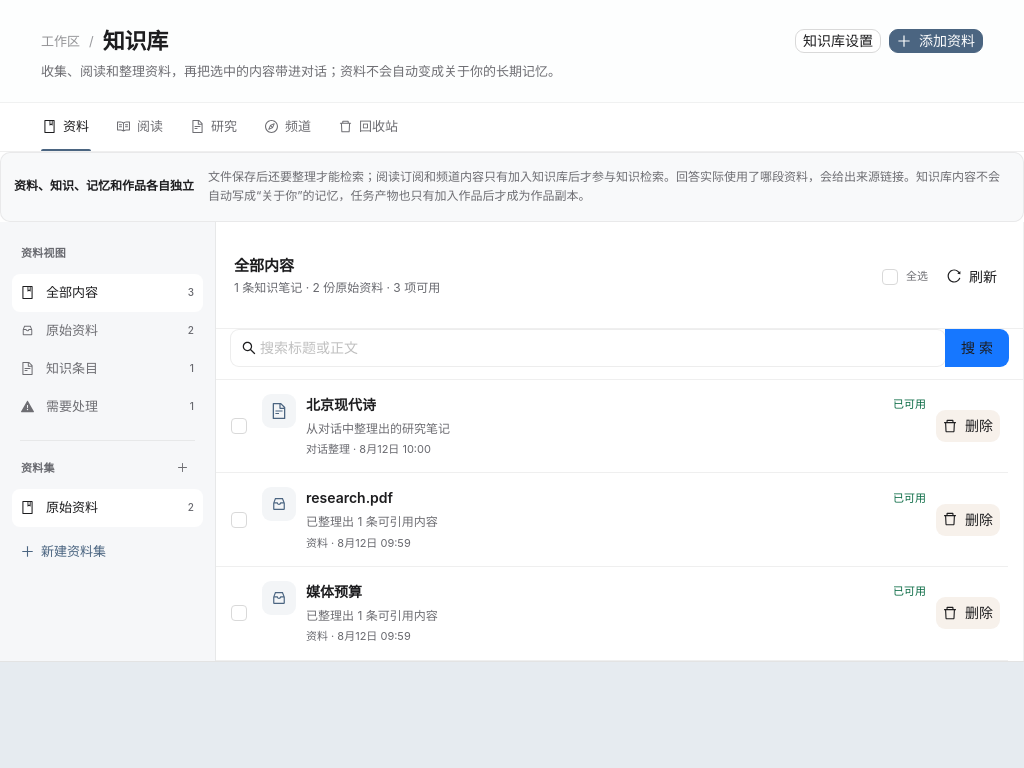
it: Knowledge workspace › opens a search excerpt by Unicode position and checks its source version
Type "Research" into the search field named "搜索知识库". click: x=589, y=348
box: [260, 334, 918, 362]
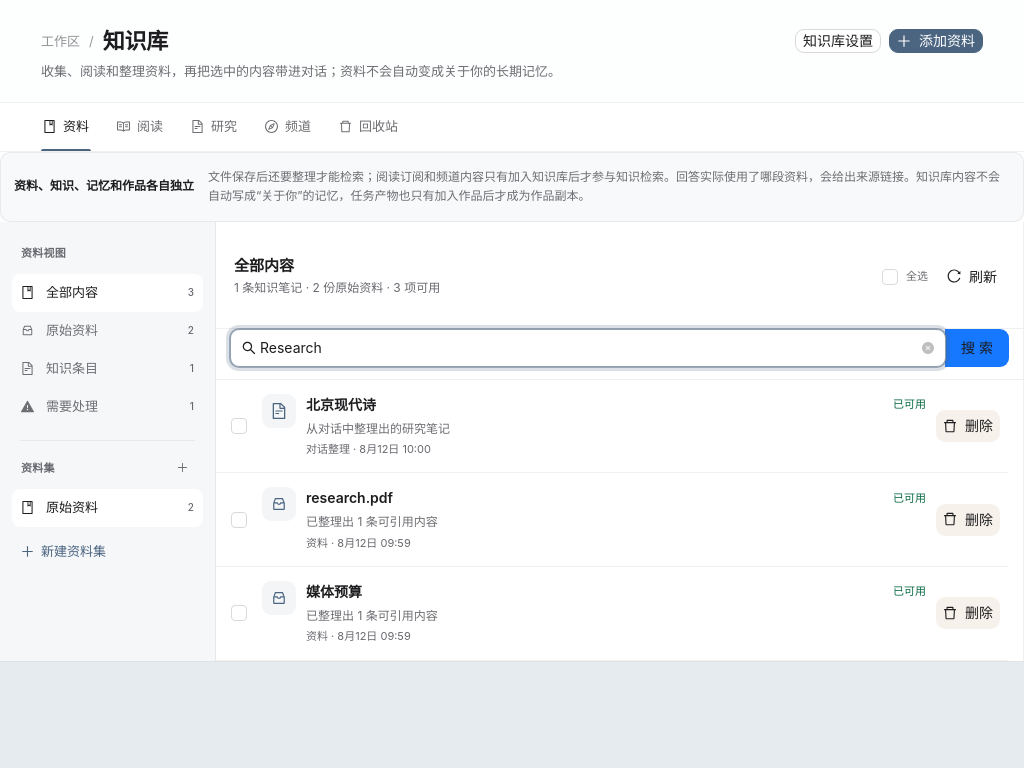
Press Enter
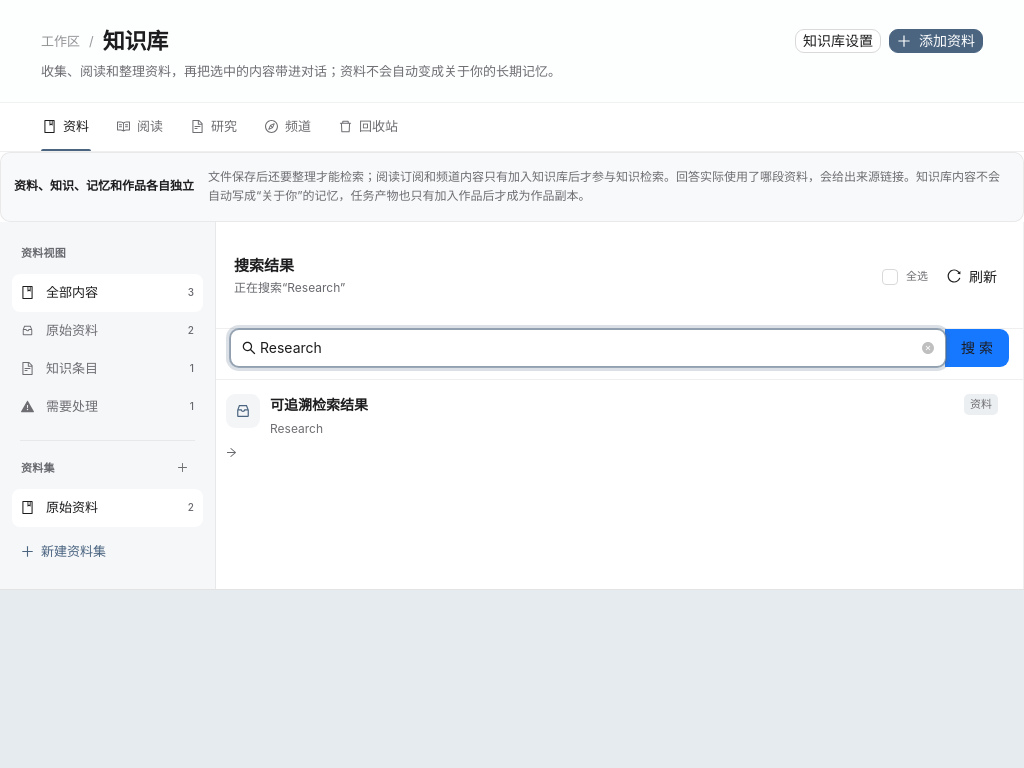
Click the button "可追溯检索结果 资料 Research". click: x=243, y=411
box: [216, 380, 1008, 472]
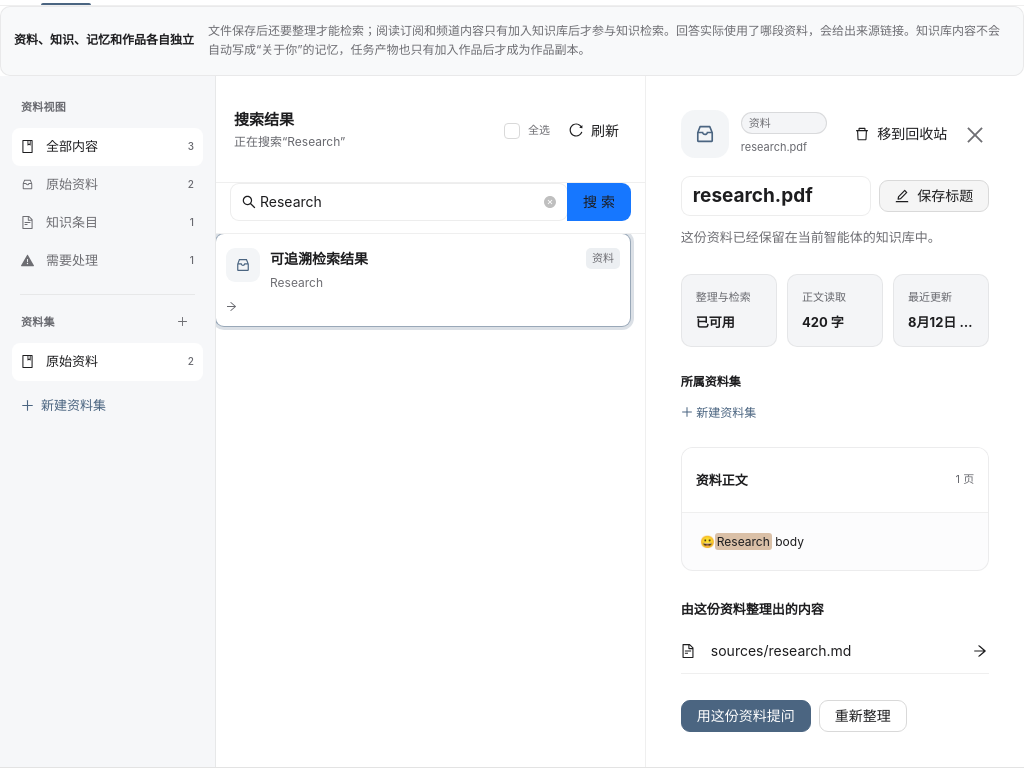
Expected: the text "Research" next to "body" is shown, [717, 534, 770, 549]
